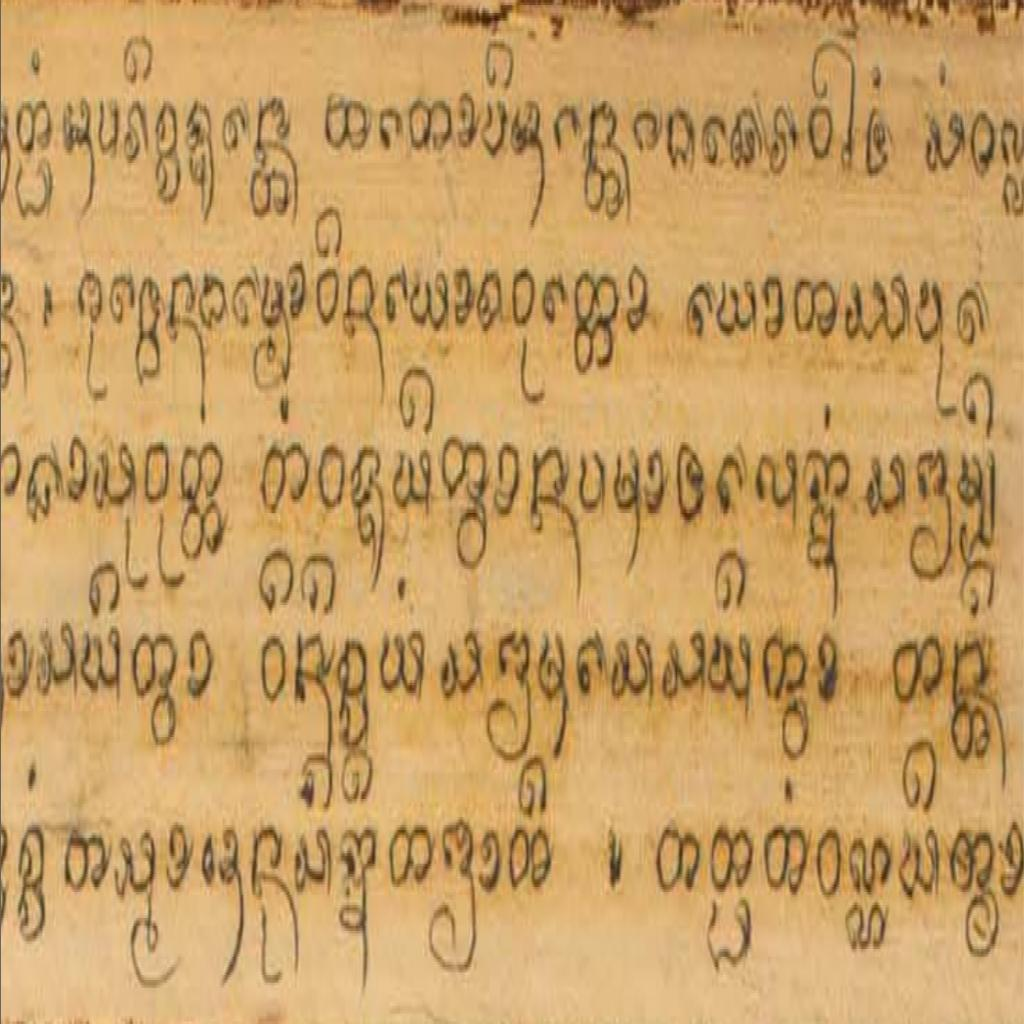LN031: (611, 445, 644, 524)
LN032: (79, 618, 126, 705)
